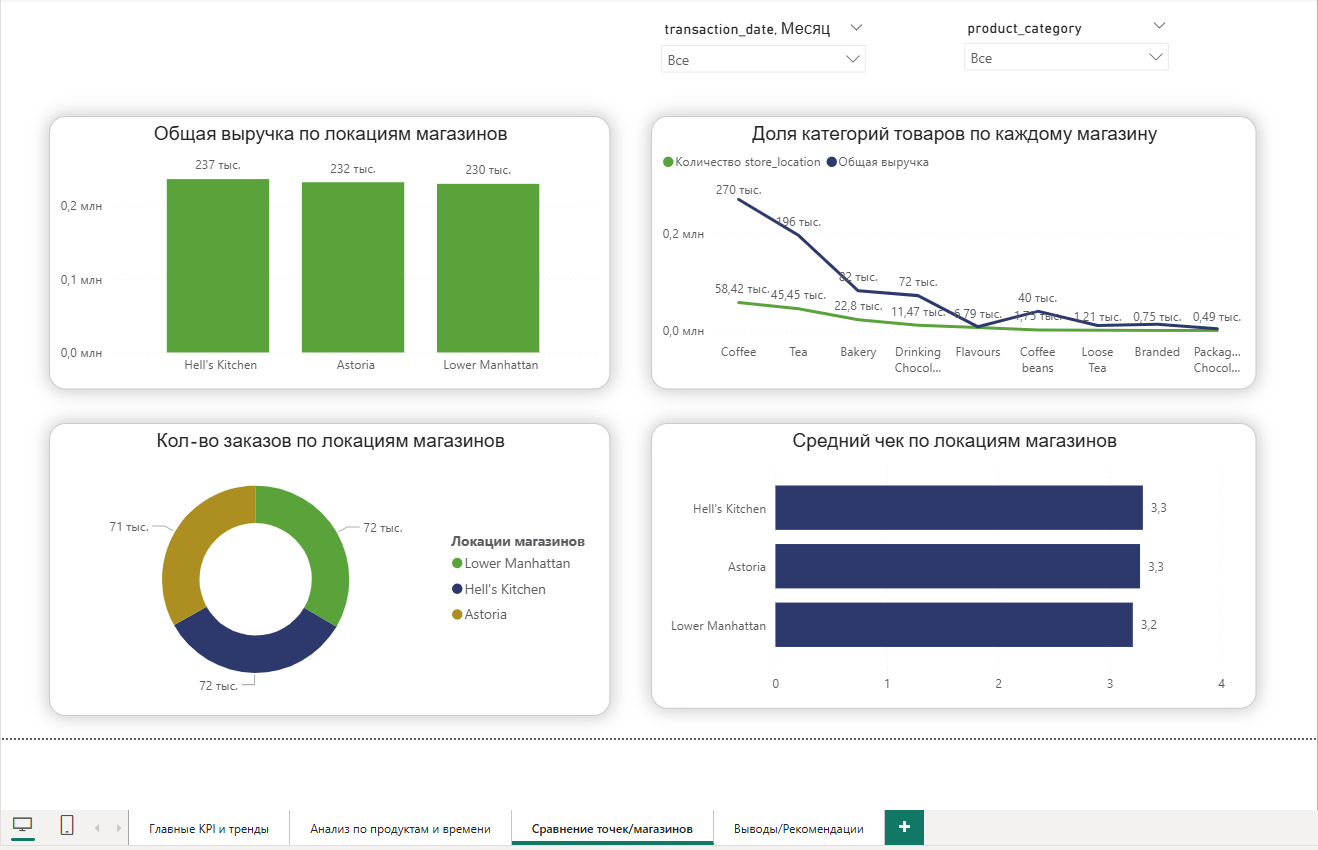

The page's visual inventory and layout, read from the dashboard file:
{"tool":"powerbi","page":{"name":"Сравнение точек/магазинов","canvas":[1280,720],"ordinal":2},"visuals":[{"type":"columnChart","title":"Общая выручка по локациям магазинов","fields":{"Y":["DAX.Общая выручка"],"Category":["Transactions.store_location"]},"box":[47,115,546,266],"z":0},{"type":"lineChart","title":"Доля категорий товаров по каждому магазину","fields":{"Y":["CountNonNull(Transactions.store_location)","DAX.Общая выручка"],"Category":["Transactions.product_category"]},"box":[632,115,589,266],"z":1000},{"type":"slicer","fields":{"Values":["Transactions.transaction_date","Transactions.transaction_date.Изменение.Иерархия дат.Месяц"]},"box":[632,16,219,78],"z":2000},{"type":"donutChart","title":"Кол-во заказов по локациям магазинов","fields":{"Y":["DAX.Кол-во заказов"],"Category":["Transactions.store_location"]},"box":[47,413,546,285],"z":3000},{"type":"slicer","fields":{"Values":["Transactions.product_category"]},"box":[927,16,219,78],"z":4000},{"type":"barChart","title":"Средний чек по локациям магазинов","fields":{"Category":["Transactions.store_location"],"Y":["DAX.Средний чек"]},"box":[632,413,589,278],"z":5000}]}

Visuals, with their boxes on the page's 1280x720 design canvas (x1, y1, x2, y2). These are canvas units, not pixel positions in the 1318x850 screenshot, which may show the page scaled, cropped or inside an application window:
"Общая выручка по локациям магазинов" columnChart: Rect(47, 115, 593, 381)
"Доля категорий товаров по каждому магазину" lineChart: Rect(632, 115, 1221, 381)
slicer - Transactions.transaction_date x Transactions.transaction_date.Изменение.Иерархия дат.Месяц: Rect(632, 16, 851, 94)
"Кол-во заказов по локациям магазинов" donutChart: Rect(47, 413, 593, 698)
slicer - Transactions.product_category: Rect(927, 16, 1146, 94)
"Средний чек по локациям магазинов" barChart: Rect(632, 413, 1221, 691)
